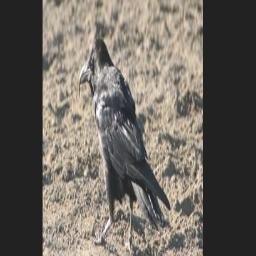Crow: (78, 33, 172, 256)
